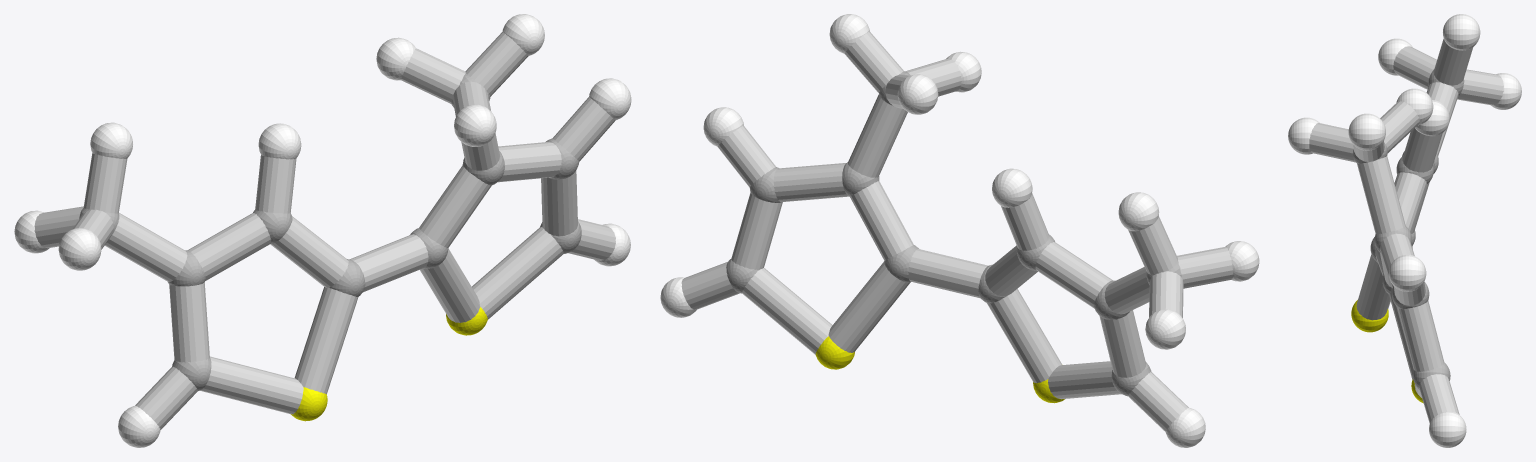
File: Methylthiophene_Phi_15_Theta_210_Methylthiophene.glb
3 views of the same model, side by side, from view 1: azimuth 30°, elevation 25°; view 2: azimuth 150°, elevation 25°; view 3: azimuth 270°, elevation 25° (orthographic). The views are drawn at different scales.
Parts seen in each view (by area): view 1: grp7965, grp3621, grp1, grp7241; view 2: grp7965, grp3621, grp1, grp7241; view 3: grp7965, grp3621, grp1, grp7241.
Boxes of the visible parts, bbox=[...] form: grp7965: bbox=[34, 32, 615, 429]; grp3621: bbox=[14, 14, 631, 447]; grp1: bbox=[79, 73, 581, 390]; grp7241: bbox=[291, 307, 487, 421]; grp7965: bbox=[681, 31, 1232, 431]; grp3621: bbox=[660, 14, 1259, 447]; grp1: bbox=[726, 71, 1181, 396]; grp7241: bbox=[815, 336, 1064, 403]; grp7965: bbox=[1309, 39, 1503, 423]; grp3621: bbox=[1288, 14, 1521, 447]; grp1: bbox=[1353, 69, 1464, 389]; grp7241: bbox=[1351, 300, 1423, 403].
Bounding box in the file's own units: 9.61 × 5.43 × 3.74.
